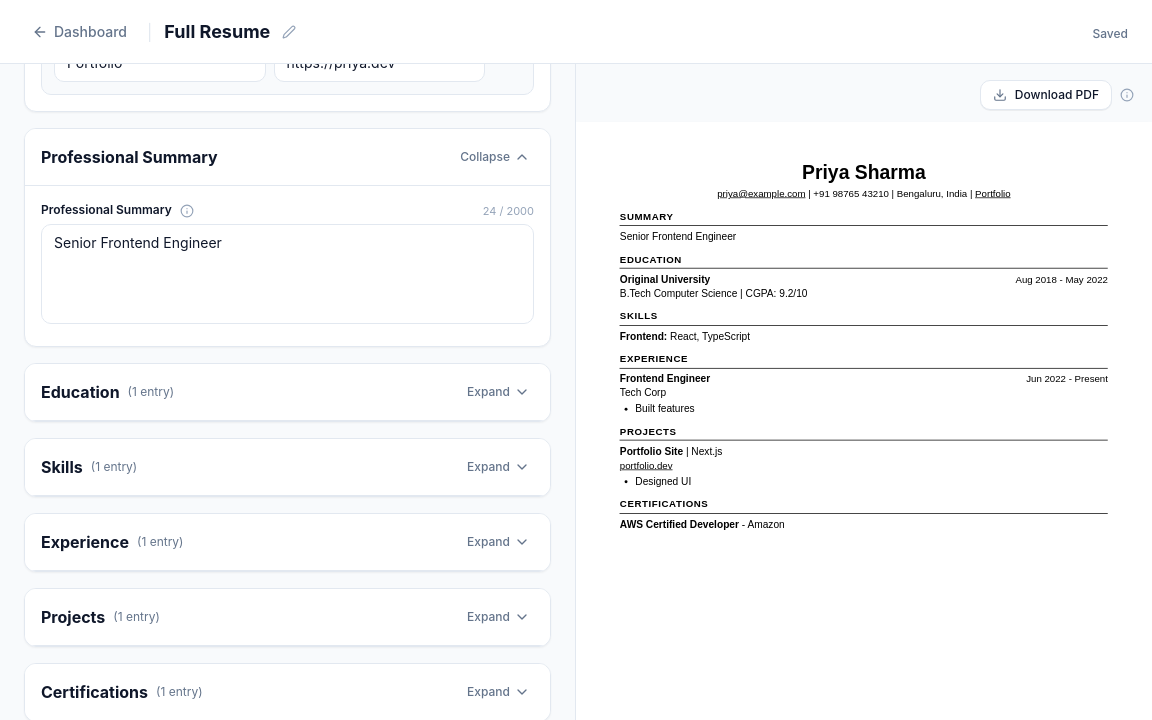
it: EditorPage › editing institution in a full fixture updates the preview text
(page scrolled)
Check: the heading "Full Resume" is shown, box [164,18,270,46]
Check: the text "Original University" is shown, box [620,273,710,285]
Click the 1st button "Expand": x=499, y=392 [463,380,534,404]
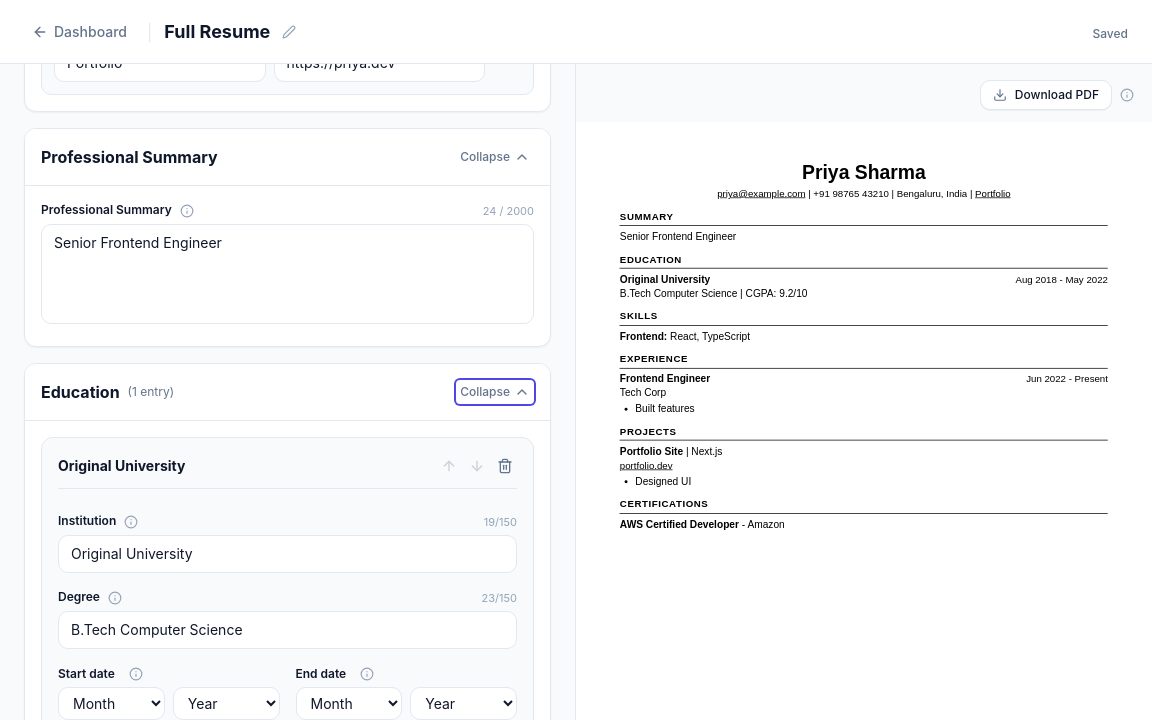
// Edit institution
Replace the text in the field showing "Original University" with "Stanford University": x=288, y=554 [58,535,517,573]
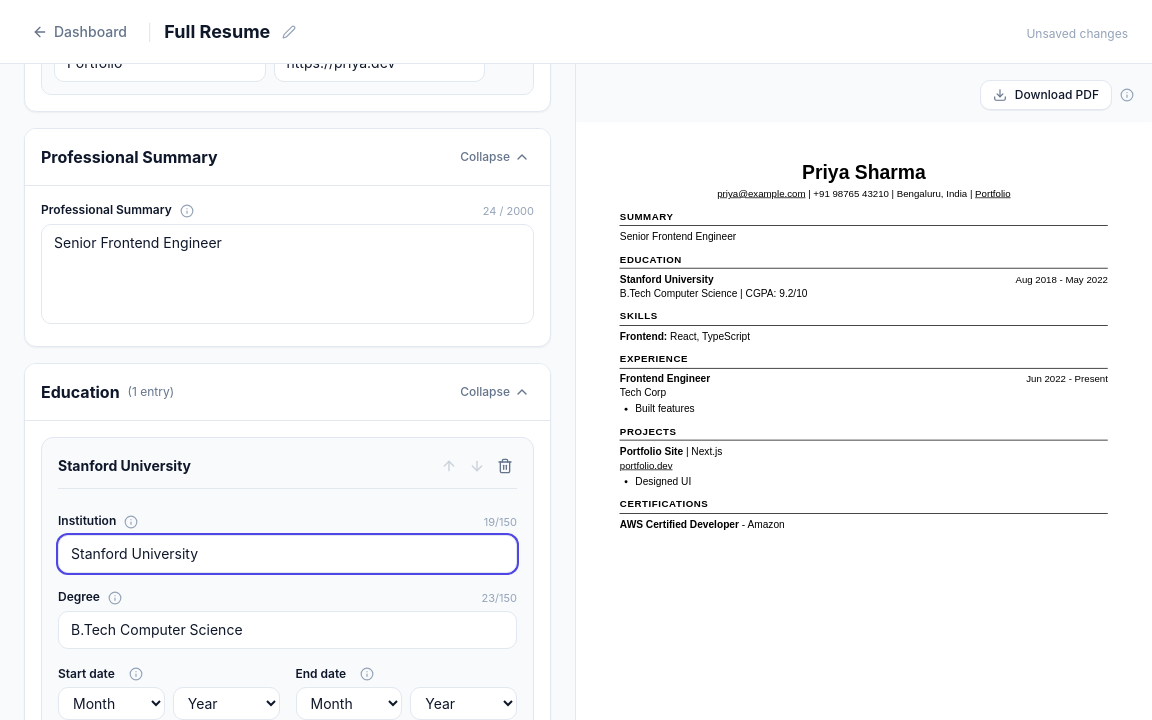
Check: the text "Stanford University" next to "Aug 2018 - May 2022" is shown, box [620,273,714,285]
